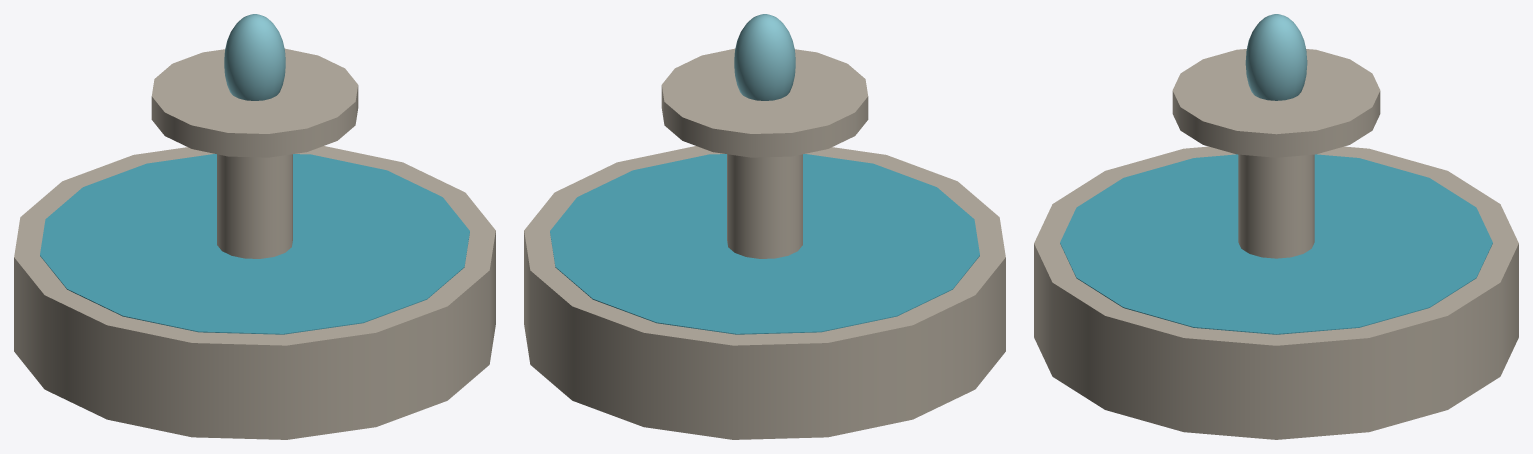
File: fountain.glb
3 views of the same model, side by side, from view 1: azimuth 30°, elevation 25°; view 2: azimuth 150°, elevation 25°; view 3: azimuth 270°, elevation 25° (orthographic).
Visible parts, largest first — view 1: farm_fountain; view 2: farm_fountain; view 3: farm_fountain.
Part boxes in pixels (x1,y1,x2,y2): farm_fountain: [14, 14, 495, 439]; farm_fountain: [524, 14, 1005, 439]; farm_fountain: [1034, 14, 1518, 439].
Bounding box in the file's own units: 2.8 × 2.05 × 2.8.
